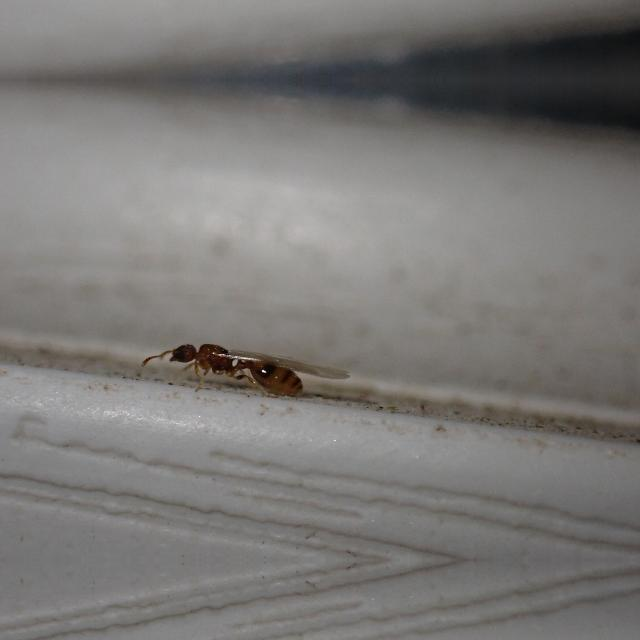Temnothorax: (150, 327, 328, 408)
